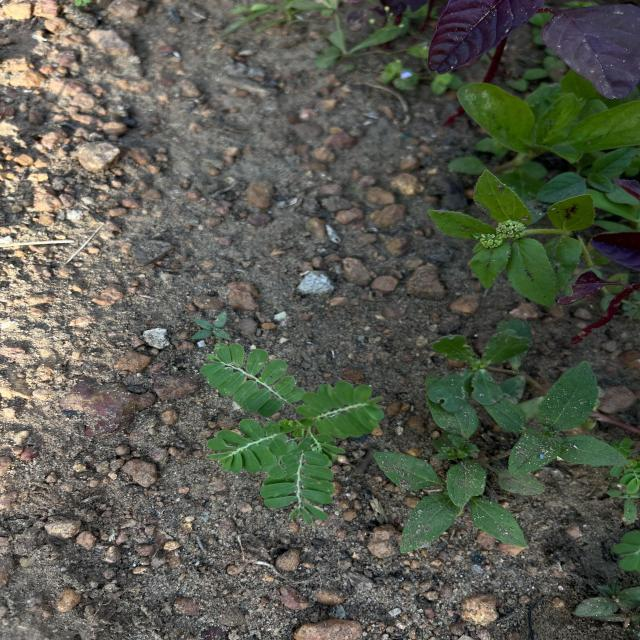Phyllanthus niruri: (196, 337, 304, 419), (260, 444, 338, 524), (295, 378, 386, 444), (199, 416, 293, 474)
